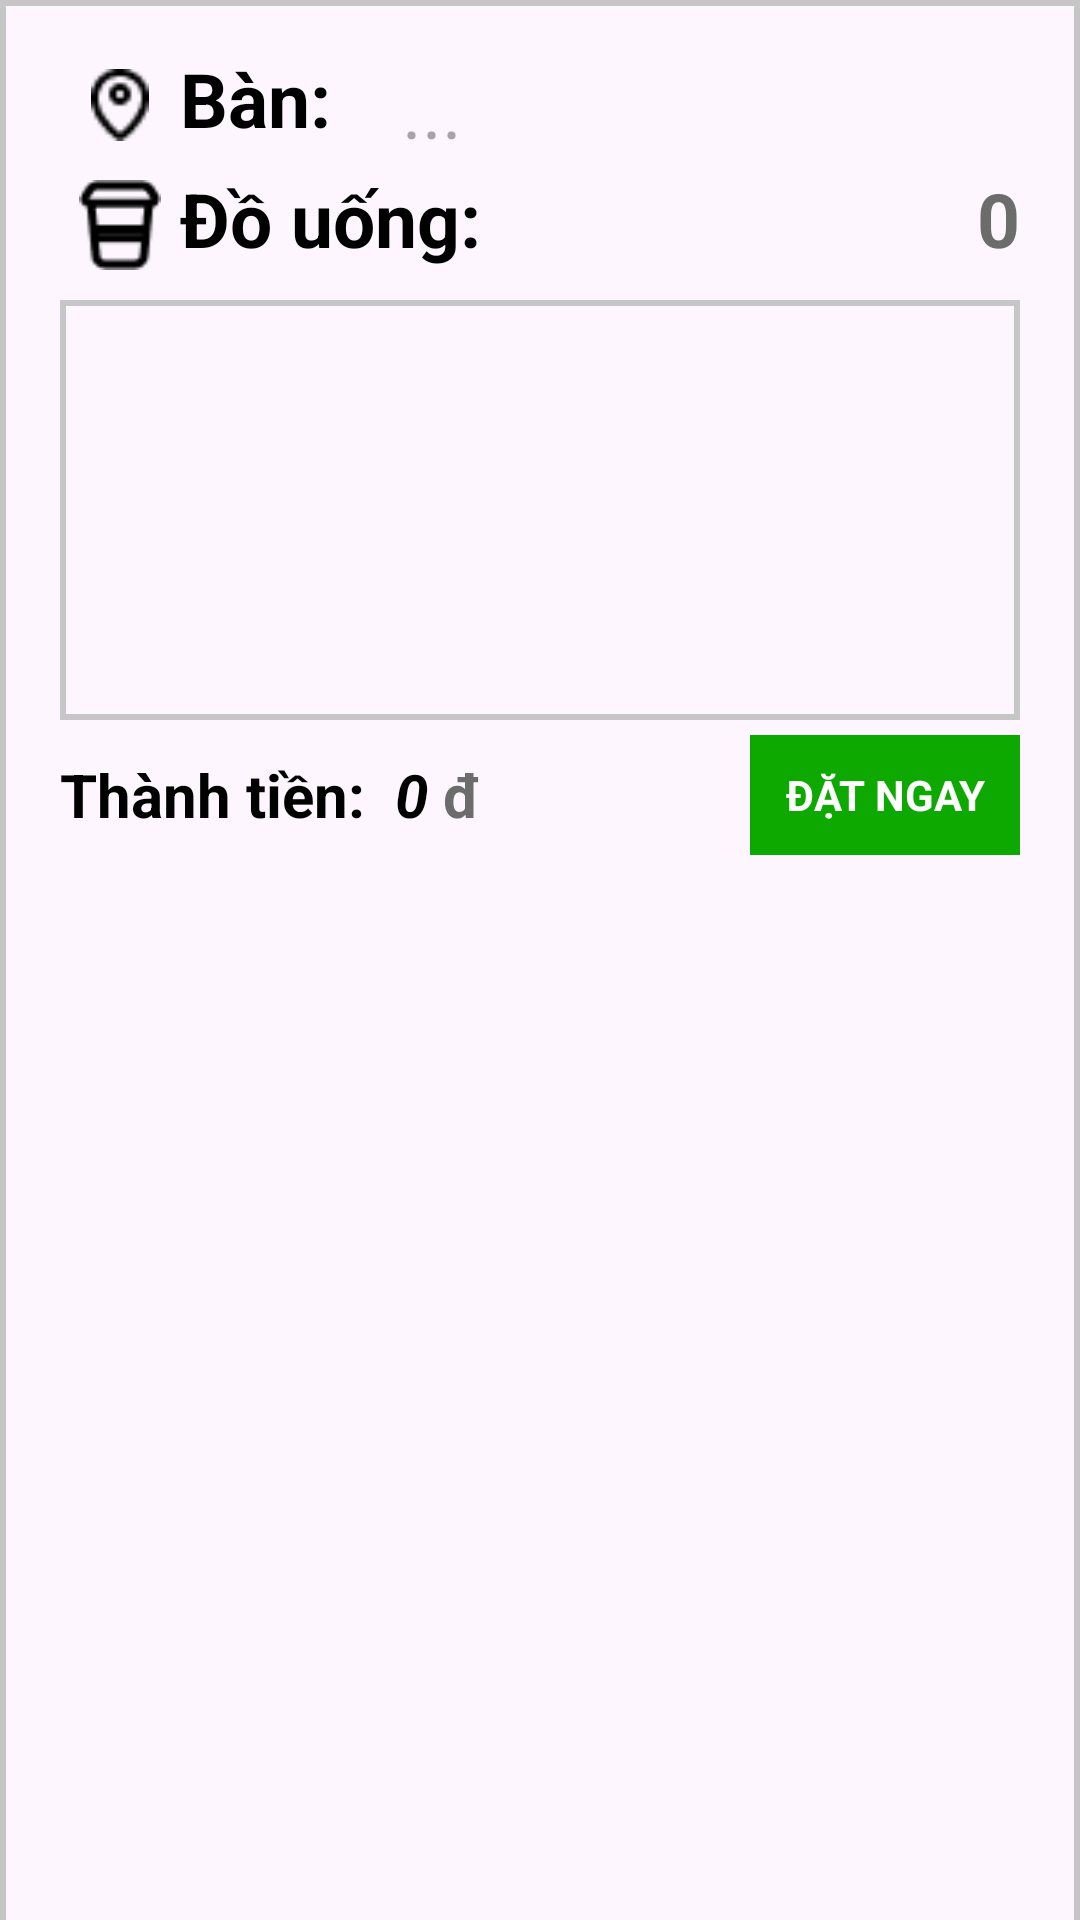

Where icons sit on this 1080 x 1920 app screen, as (x1, y1, x2, y2):
coffee cup: (79, 180, 161, 270)
